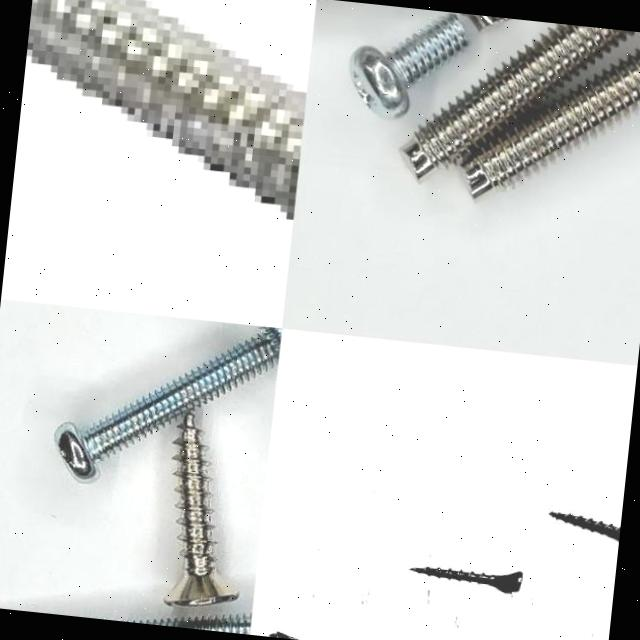Screw: (26, 0, 306, 226), (402, 23, 634, 177), (54, 333, 276, 479), (461, 50, 640, 196), (162, 413, 238, 606), (348, 15, 467, 118), (412, 567, 524, 593), (550, 511, 620, 540), (269, 631, 299, 640)
